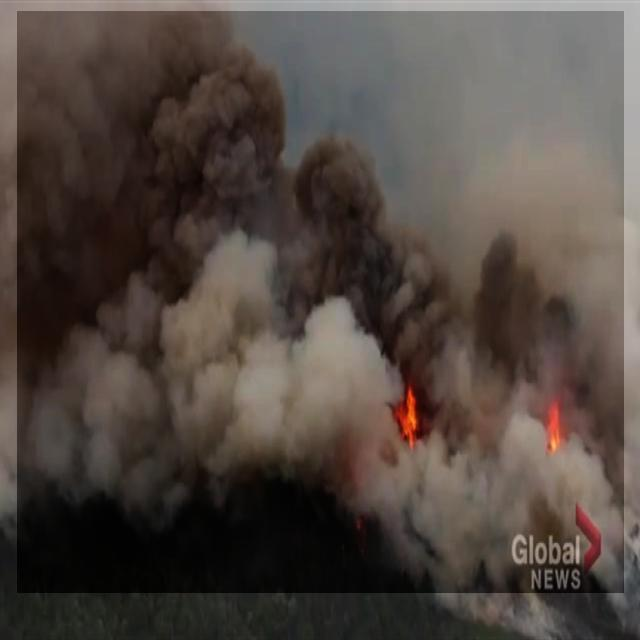Fire: (532, 378, 563, 452), (393, 386, 423, 453)
Smoke: (17, 11, 624, 594)
